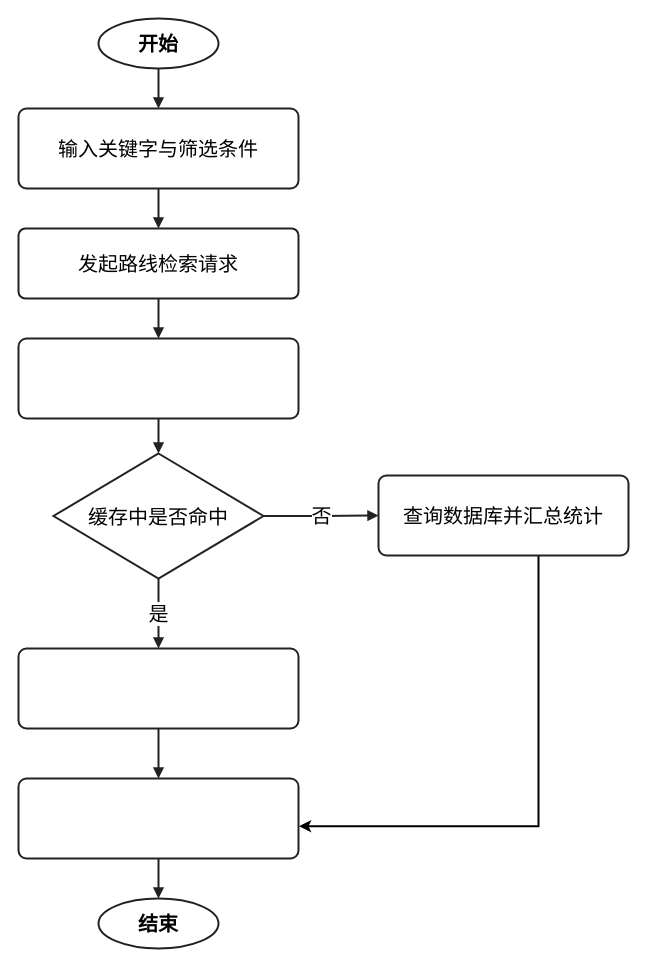
Some shapes in this 646 by 966 pixel diagram are drawn without their labels. The shapes that lost their labels are listed below. From the top down, each one's centre as x and y in pixels, then its label:
At point 158,378: "后端解析条件并构造查询".
At point 158,688: "直接读取缓存结果".
At point 158,818: "封装列表数据并返回前端".
